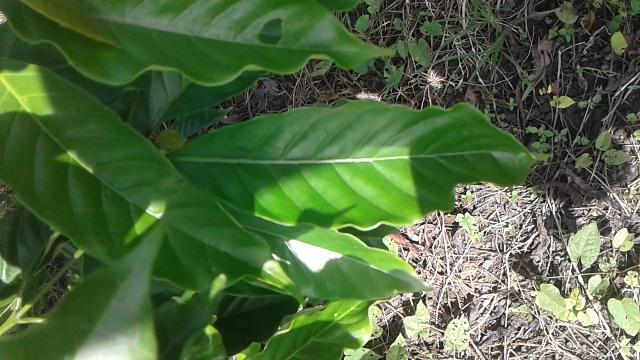healthy: (166, 92, 560, 233)
